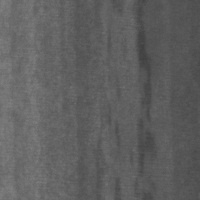inclusion: (101, 6, 140, 199), (125, 1, 159, 179)
